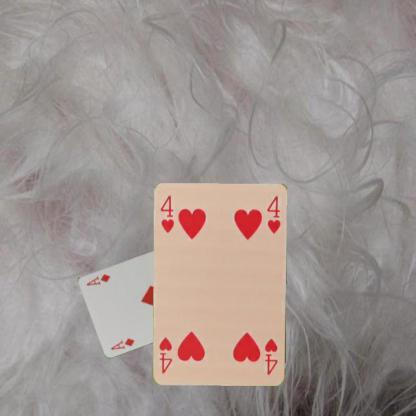4h: (262, 336, 280, 377), (158, 193, 176, 234)
Ad: (108, 335, 136, 351)
